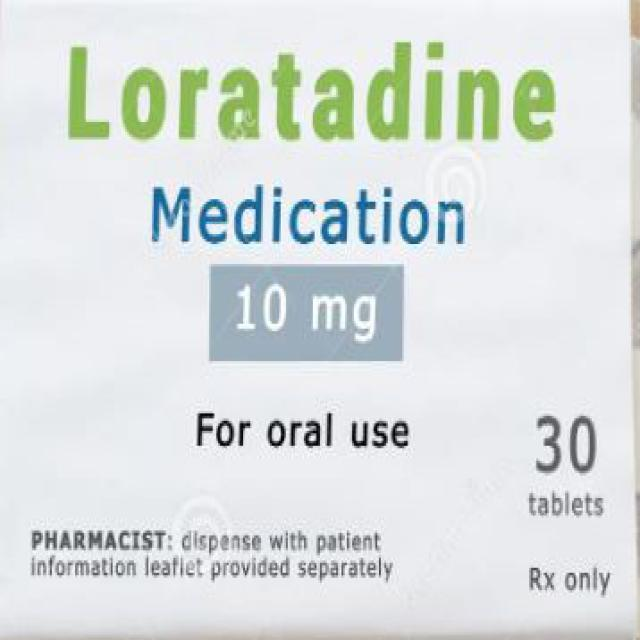drug-name: (62, 36, 560, 154)
